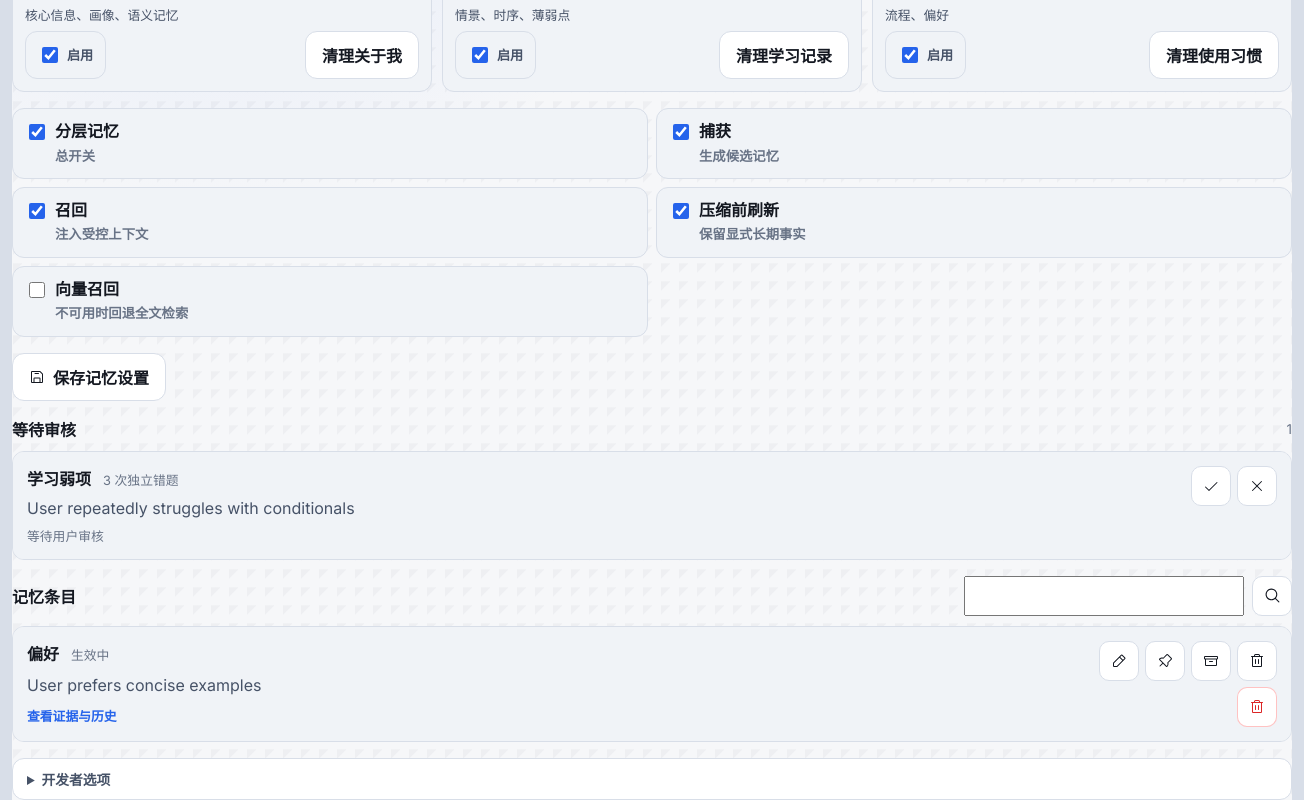
it: MemorySettings › shows only three user facing groups before developer options open
(page scrolled)
Expected: the text "最低置信度" is not shown
What coordinates should you click on to do the following:
click the heading "开发者选项"
I would click on:
 (76, 780)
Its box is [42,772,110,788].
(page scrolled)
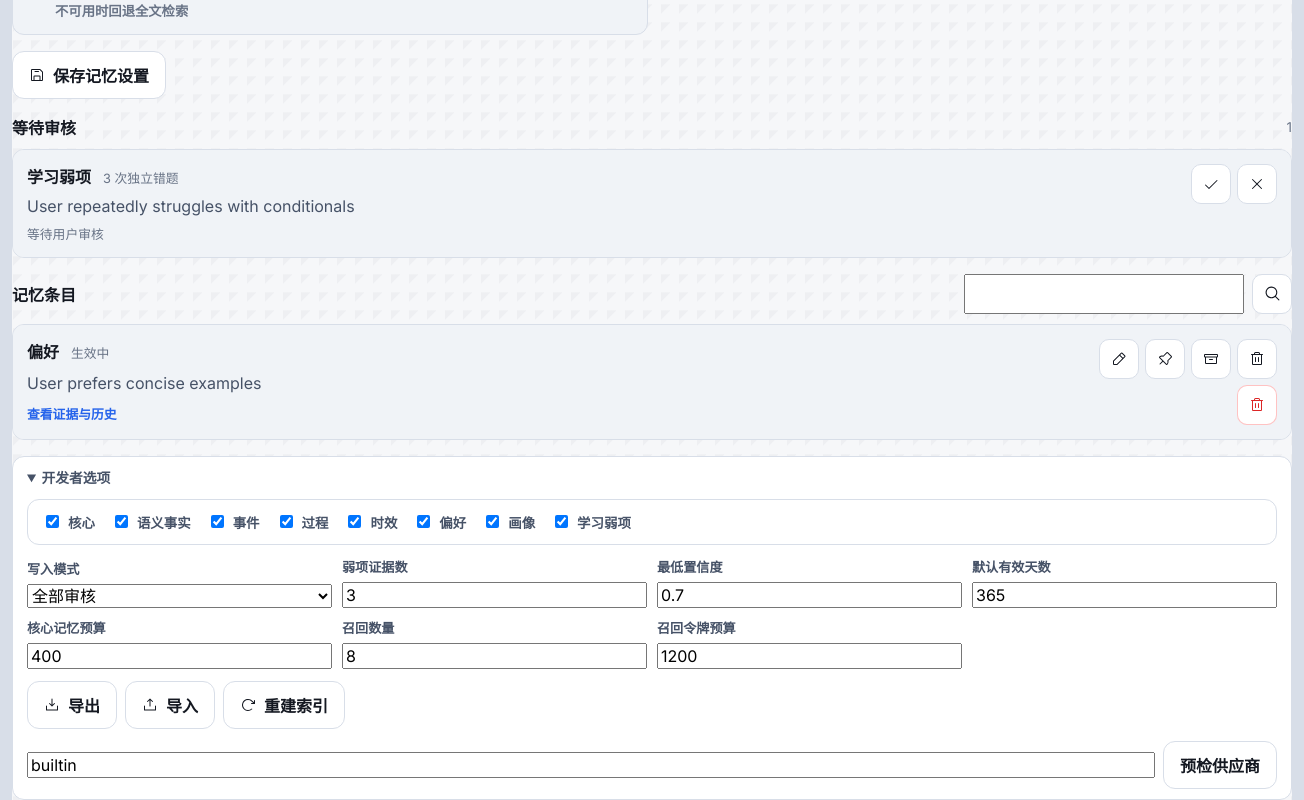
Expected: the text "最低置信度" is shown, [657,559,723,575]
